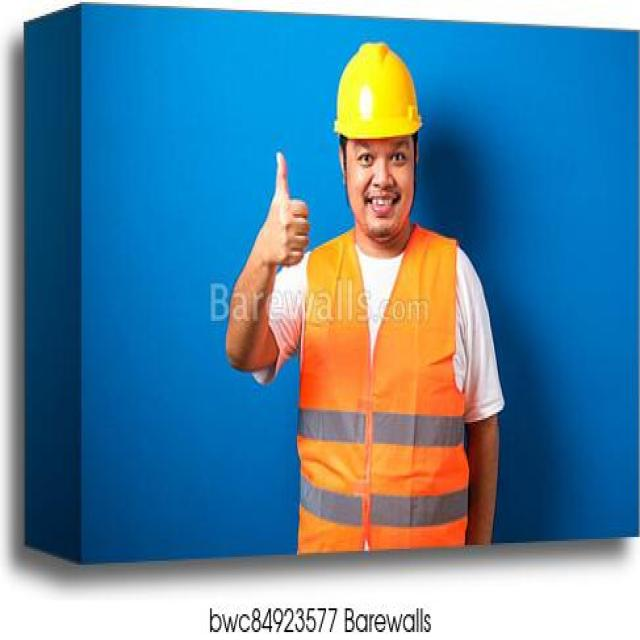helmet: (329, 37, 425, 147)
no-goggles: (334, 140, 426, 169)
vest: (298, 222, 469, 555)
